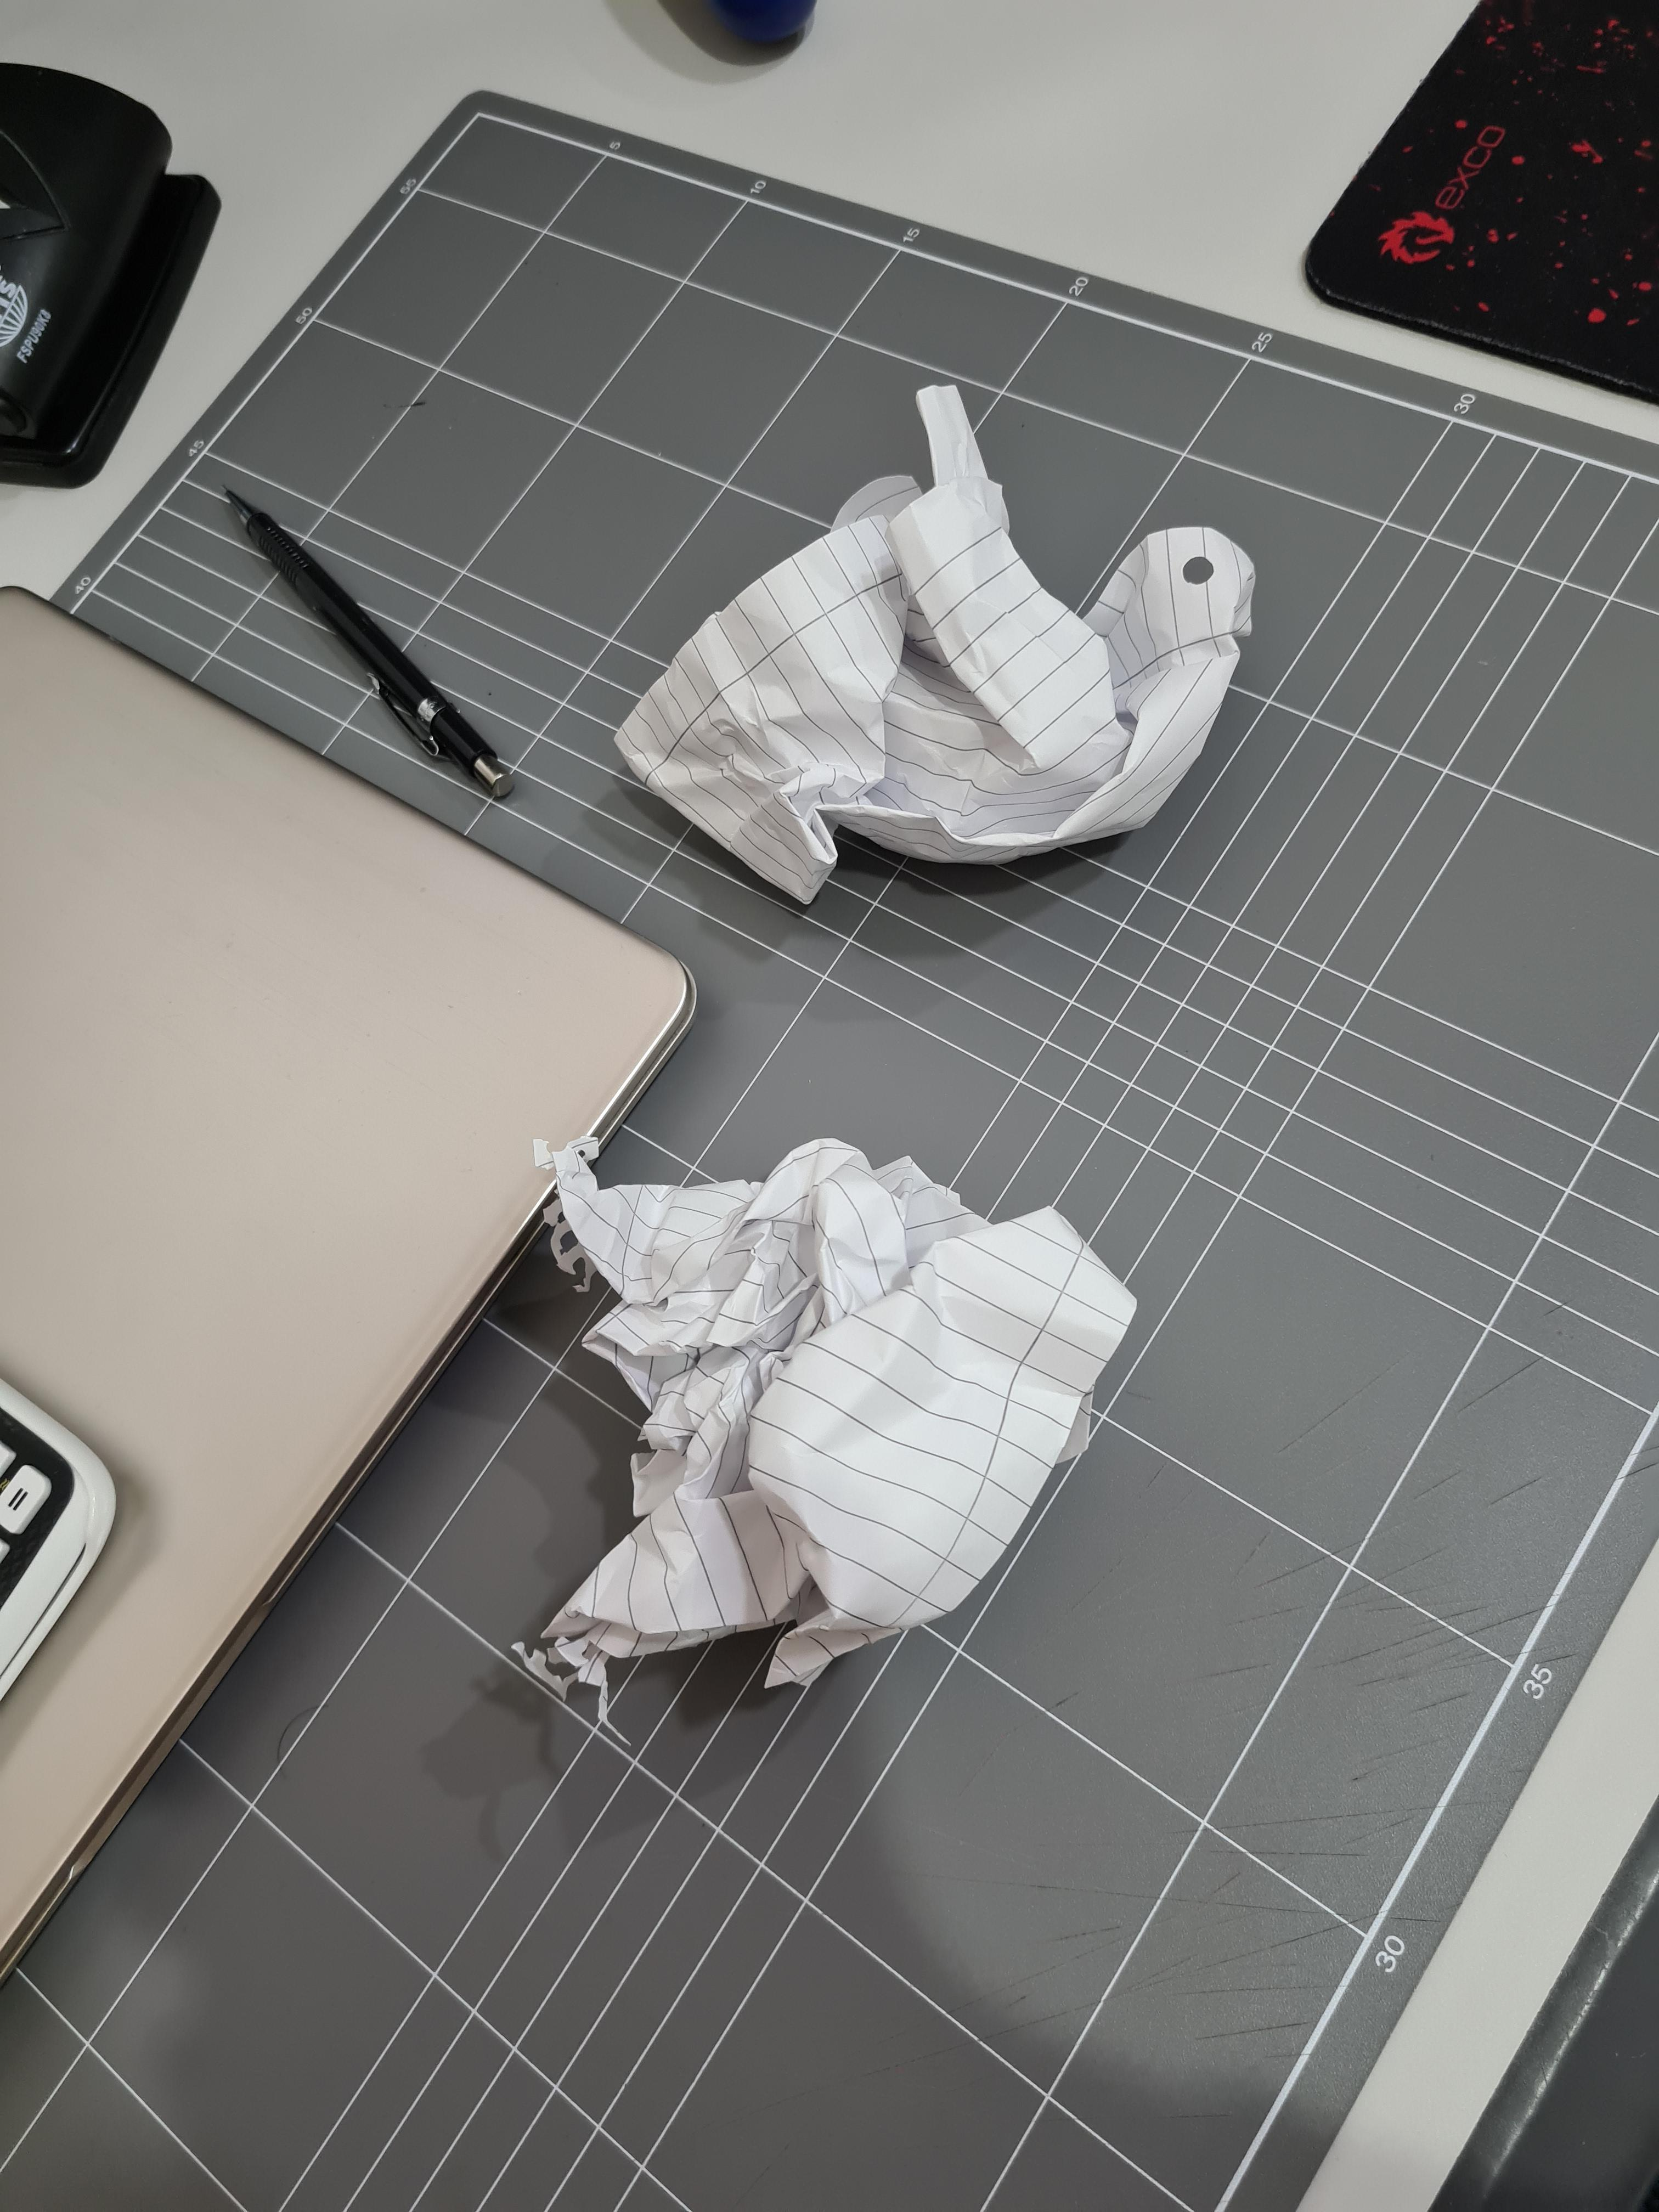Paper: (534, 1137, 1125, 1697), (632, 396, 1275, 901)
